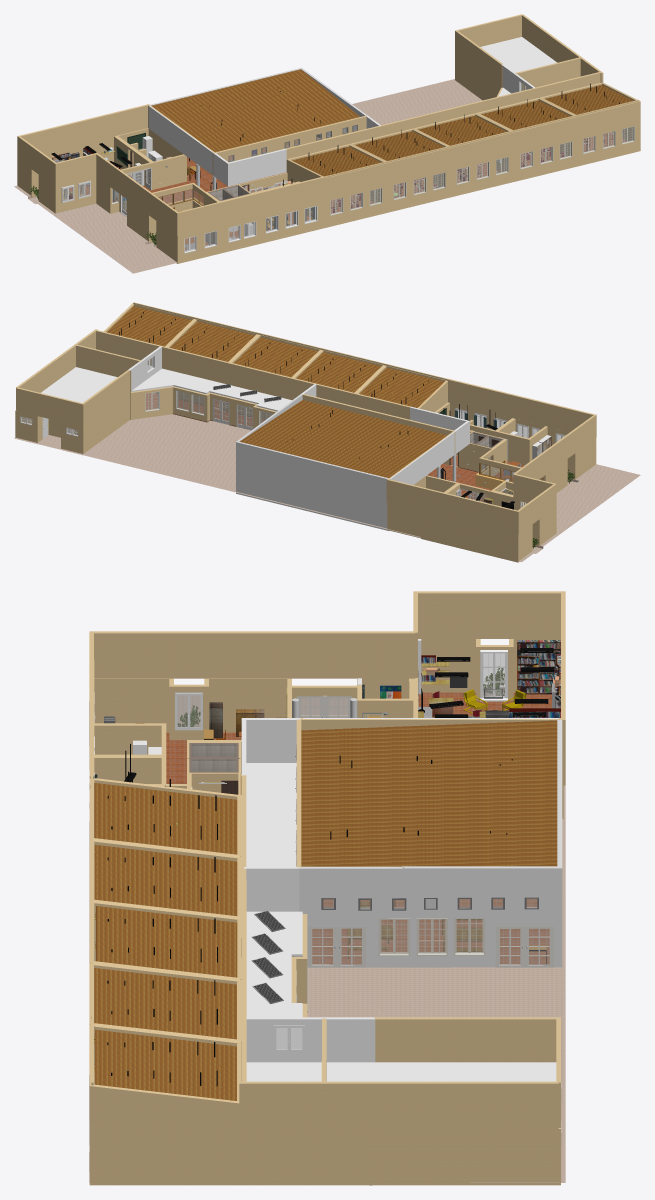
The model's file is aaaasda.glb.
3 views of the same model, one above another, from view 1: azimuth 30°, elevation 25°; view 2: azimuth 150°, elevation 25°; view 3: azimuth 270°, elevation 25° (orthographic). The views are drawn at different scales.
Parts seen in each view (by area): view 1: top_2572, ground_1, renderrs, wall_22_127, wall_101_609, wall_10_52, wall_14_77, wall_18_102, wall_162_979, wall_97_584, wall_159_961, wall_134_812 (+38 smaller); view 2: ground_1, top_2572, wall_101_608, wall_6_28, renderrs, room_208_1153, top_2529, top_2541, top_3332, top_2508, top_2535, wall_162_980 (+40 smaller); view 3: top_2572, wall_132_799, ground_1, wall_97_585, wall_106_632, renderrs, wall_155_938, wall_72_432, room_208_1153, wall_107_638, top_3332, top_2529 (+25 smaller).
Part boxes in pixels (x1,y1,x2,y2): top_2572: (151, 69, 359, 152); ground_1: (14, 79, 509, 273); renderrs: (29, 126, 634, 246); wall_22_127: (324, 163, 388, 227); wall_101_609: (21, 105, 147, 153); wall_10_52: (514, 117, 577, 181); wall_14_77: (451, 132, 514, 197); wall_18_102: (388, 148, 451, 212); wall_162_979: (177, 191, 269, 235); wall_97_584: (96, 154, 177, 235); wall_159_961: (596, 101, 640, 161); wall_134_812: (216, 116, 366, 162); ground_1: (14, 392, 640, 562); top_2572: (239, 400, 446, 478); wall_101_608: (388, 480, 517, 534); wall_6_28: (421, 511, 518, 562); renderrs: (20, 384, 574, 549); room_208_1153: (131, 368, 291, 411); top_2529: (170, 321, 254, 361); top_2541: (296, 352, 381, 392); top_3332: (359, 367, 444, 407); top_2508: (107, 306, 191, 346); top_2535: (234, 337, 317, 377); wall_162_980: (502, 393, 593, 431); top_2572: (301, 720, 557, 868); wall_132_799: (299, 868, 562, 967); ground_1: (89, 687, 565, 1182); wall_97_585: (94, 633, 415, 678); wall_106_632: (89, 1086, 241, 1185); renderrs: (89, 648, 561, 1152); wall_155_938: (324, 1083, 558, 1129); wall_72_432: (369, 1129, 560, 1185); room_208_1153: (246, 763, 302, 1048); wall_107_638: (375, 1019, 556, 1062); top_3332: (94, 783, 237, 854); top_2529: (94, 968, 236, 1039).
Size of what is drawn, in the model's own units: 4958 by 482 by 2015.
Materials: 175 (64 with a texture image).
